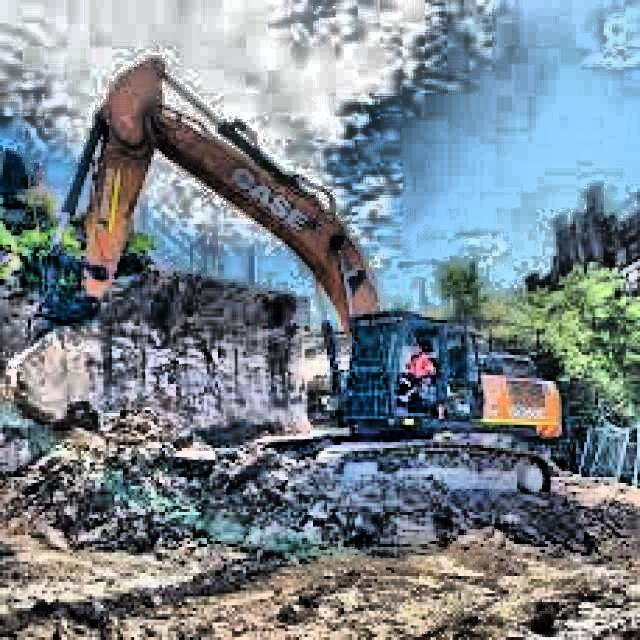bull_dozer/loader/grader: (2, 53, 570, 508)
person: (404, 342, 434, 387)
